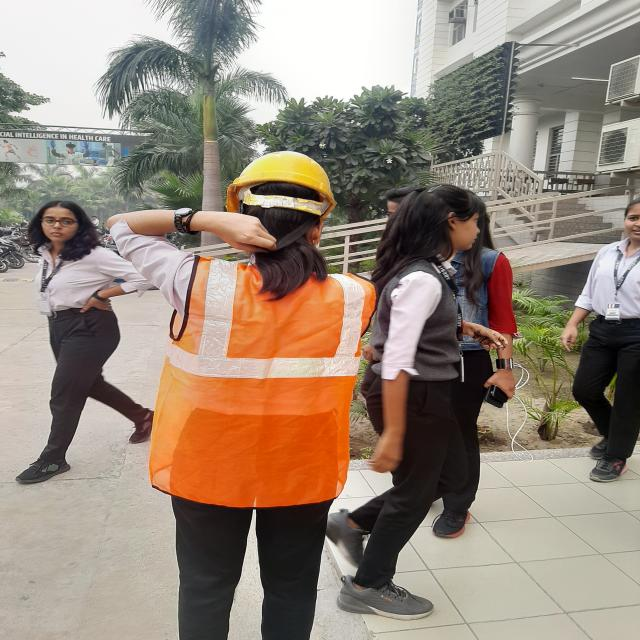safe: (108, 149, 374, 640)
unsafe: (330, 184, 484, 616), (20, 201, 150, 484), (561, 198, 640, 486)
